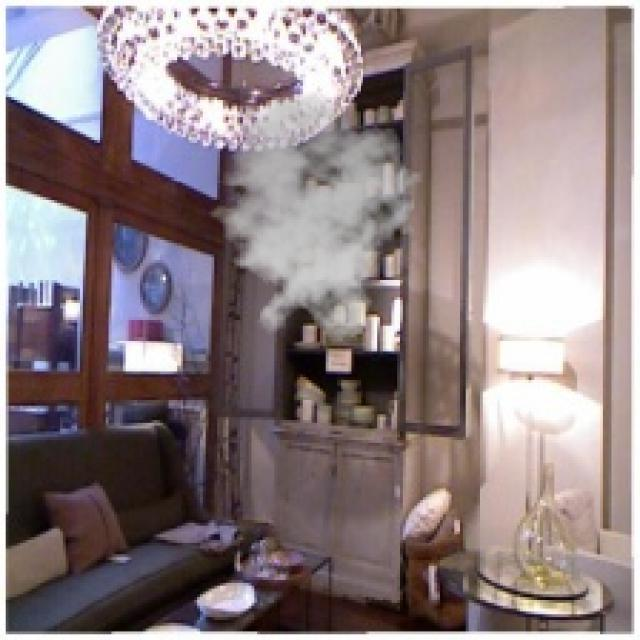Smoke: (197, 91, 429, 343)
